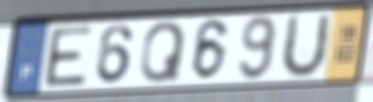6: (188, 18, 231, 83), (96, 23, 134, 86)
9: (237, 13, 279, 82)
E: (43, 23, 95, 88)
Q: (138, 19, 188, 86)
U: (277, 10, 333, 82)
